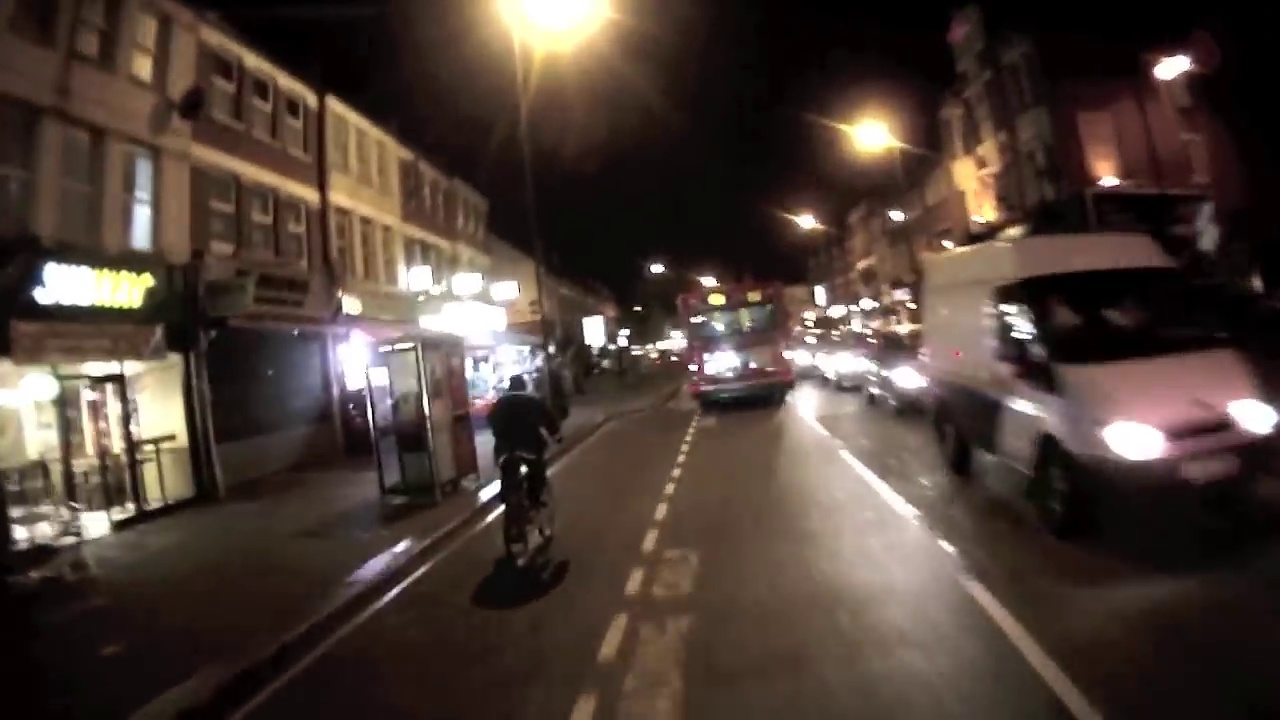cyclist_back: (486, 369, 573, 582)
